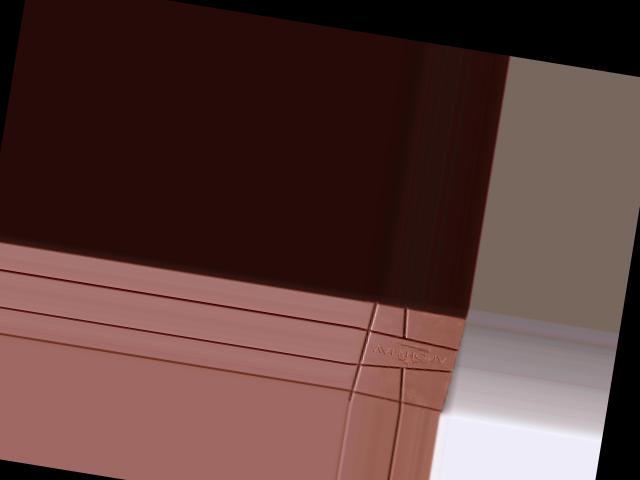chocolate: (342, 295, 469, 417)
